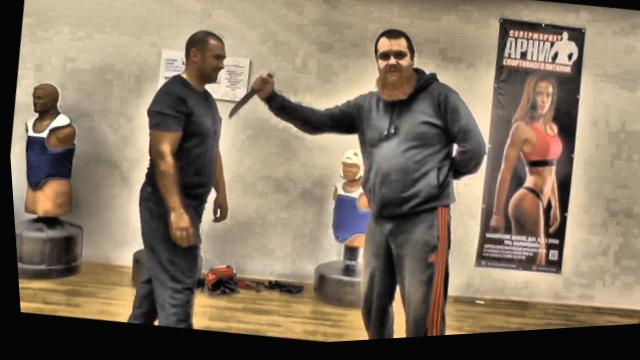knife: (220, 69, 276, 130)
